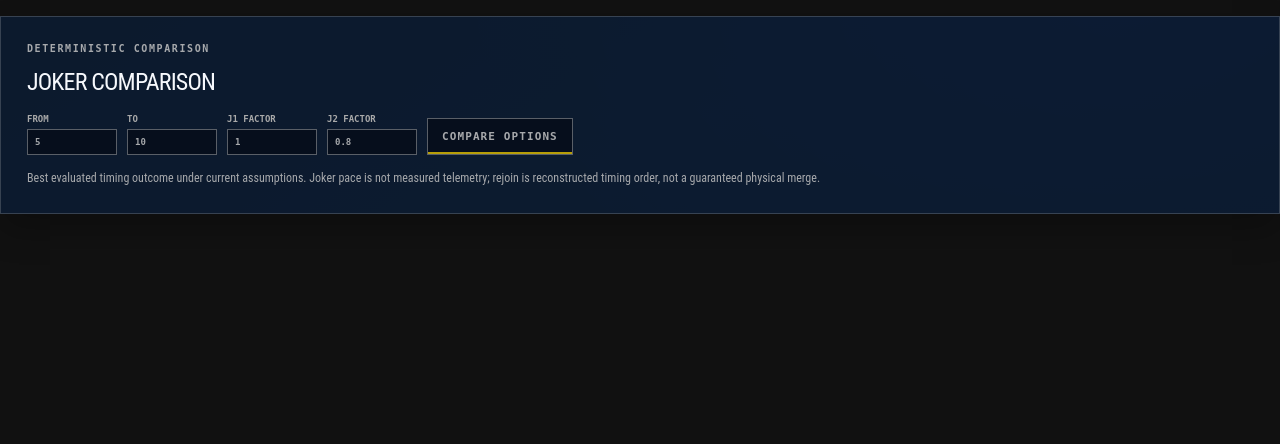
Test: JokerComparison › renders an explicit desktop column model and structured best-outcome card
Click the button "COMPARE OPTIONS": (500, 136) [427,118,573,155]
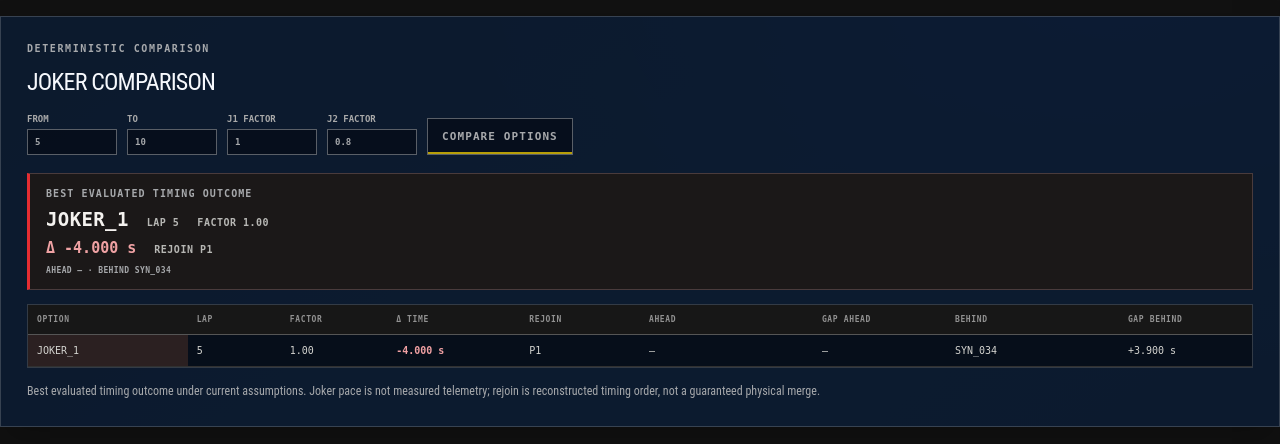
Expected: the element labelled "BEST EVALUATED TIMING OUTCOME" is shown, [27,173,1253,290]
Expected: the column heading "GAP AHEAD" is shown, [813,305,946,334]
Expected: the column heading "GAP BEHIND" is shown, [1119,305,1252,334]
